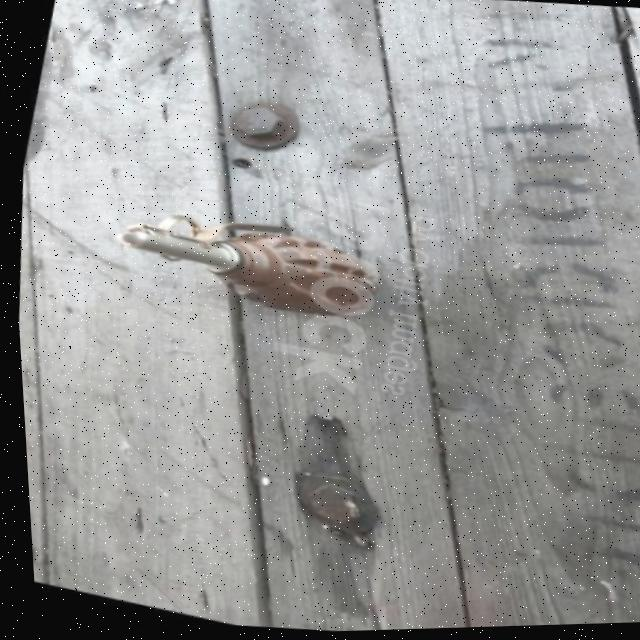grenade: (94, 183, 392, 346)
